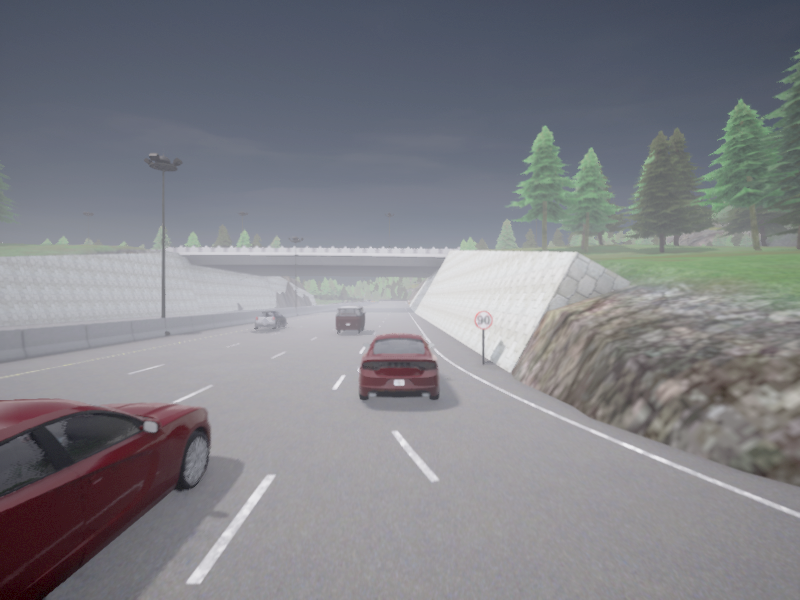vehicle: (0, 399, 210, 599), (358, 333, 439, 399), (336, 305, 365, 333), (255, 311, 286, 329)
